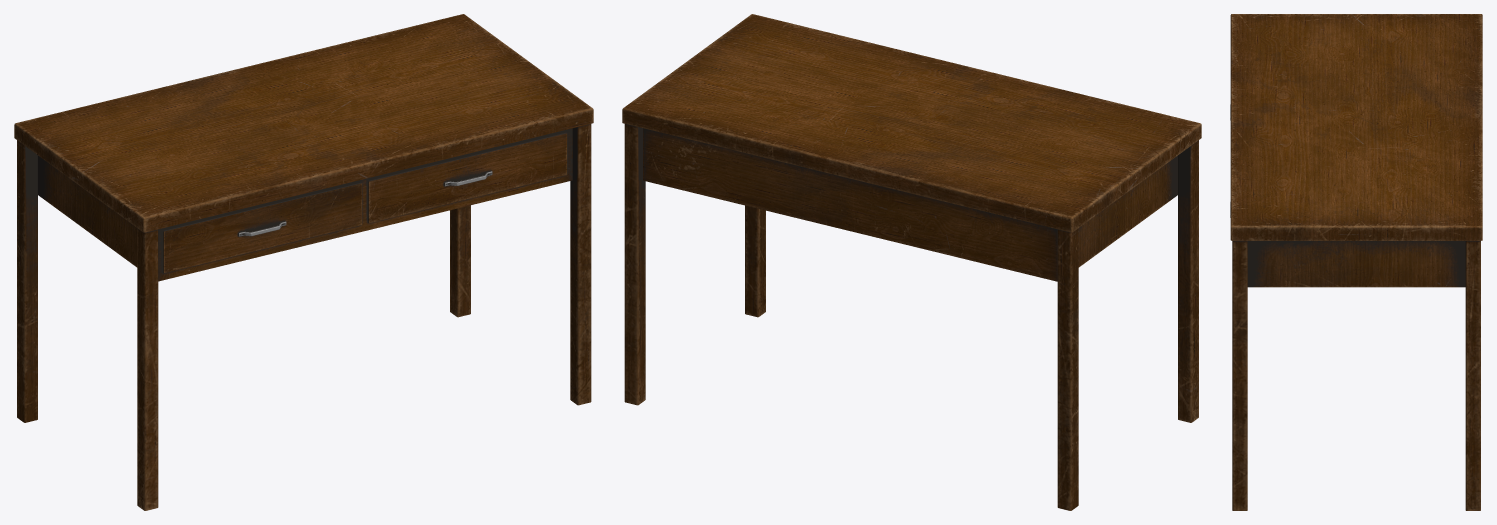
Rendered from desk_wooden_office_-_18mb.glb.
3 renders of one model, left to right at view 1: azimuth 30°, elevation 25°; view 2: azimuth 150°, elevation 25°; view 3: azimuth 270°, elevation 25°, orthographic. The views are drawn at different scales.
Visible parts, largest first — view 1: Main_136m_0_1; view 2: Main_136m_0_1; view 3: Main_136m_0_1.
Boxes of the visible parts, x1,y1,x2,y2 form: Main_136m_0_1: (14, 14, 593, 510); Main_136m_0_1: (622, 14, 1201, 510); Main_136m_0_1: (1230, 14, 1482, 510).
Size of the model in its own units: 1.28 by 0.7987 by 0.641.
1 material, 1 textured.
